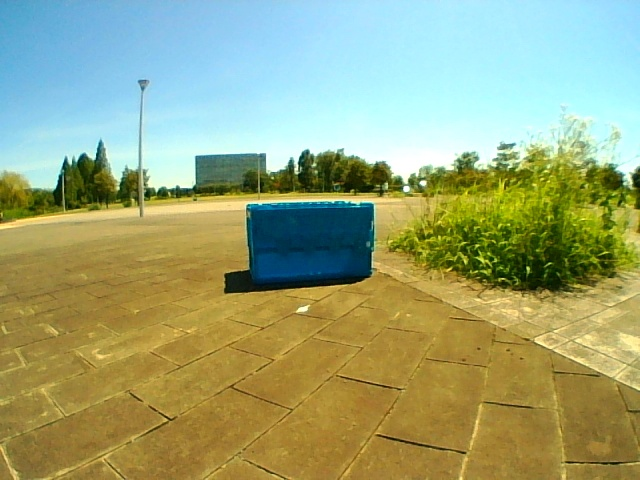blue_box: (249, 205, 373, 276)
